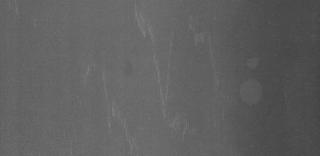oil spot: (236, 76, 268, 112), (240, 49, 270, 73)
silk spot: (132, 9, 188, 135), (94, 94, 144, 150), (186, 18, 224, 74), (80, 54, 124, 100)
